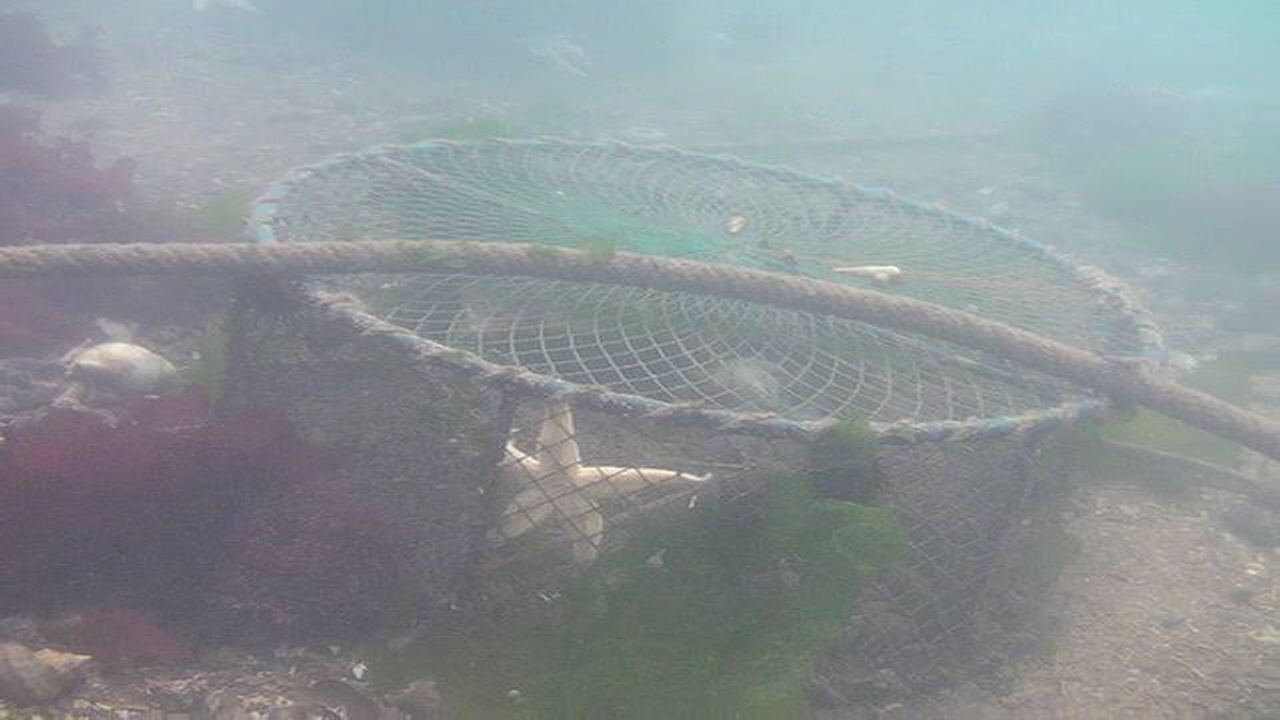circular fish trap: (203, 136, 1165, 720)
rope: (0, 231, 1280, 463)
